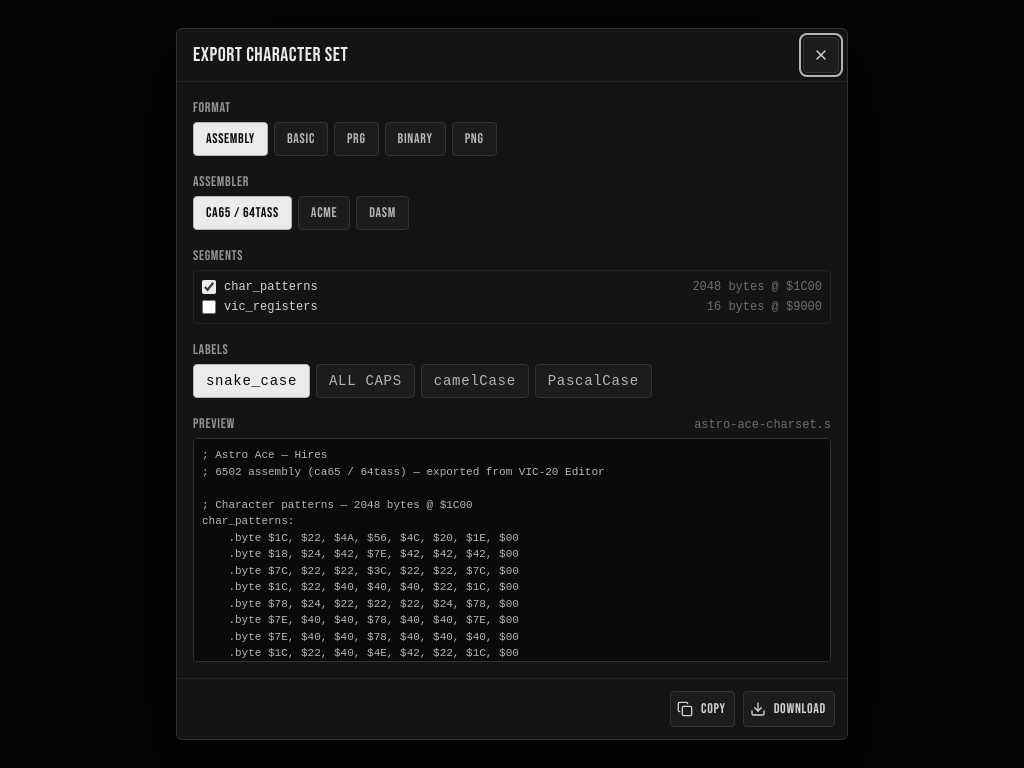
Test: ExportDialog › generates a BASIC loader that pokes the charset into its base
Click the button "BASIC" at [301, 139], box [274,122,328,156]
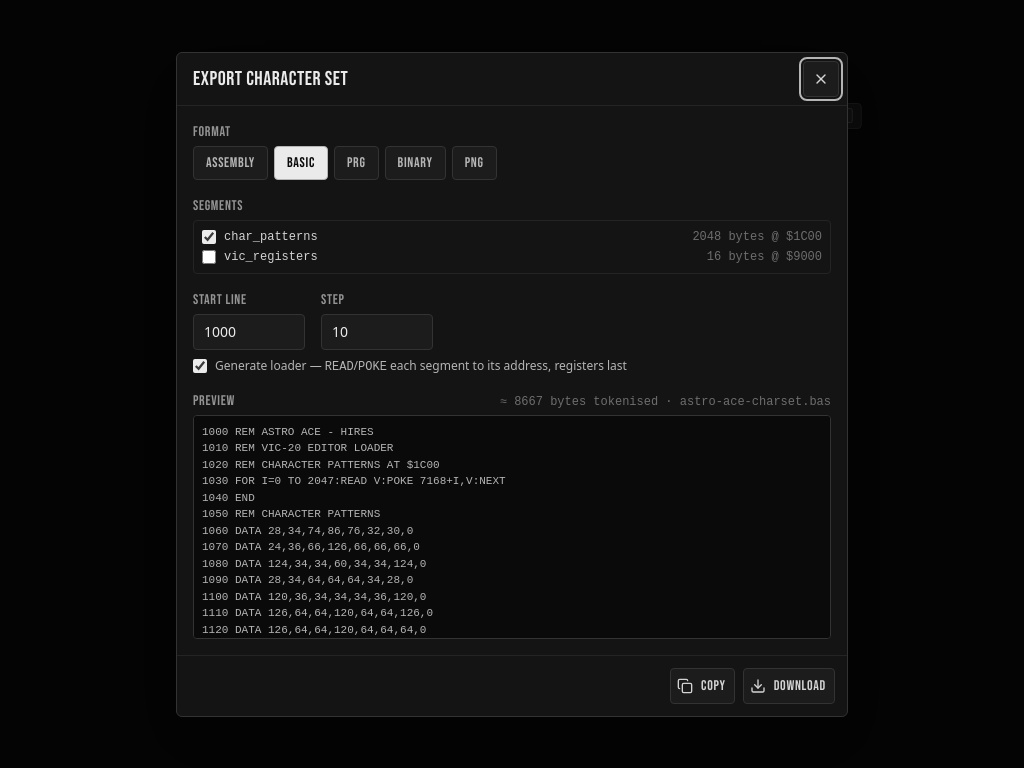
Check: the text "bytes tokenised" is shown, box [500,394,680,408]
